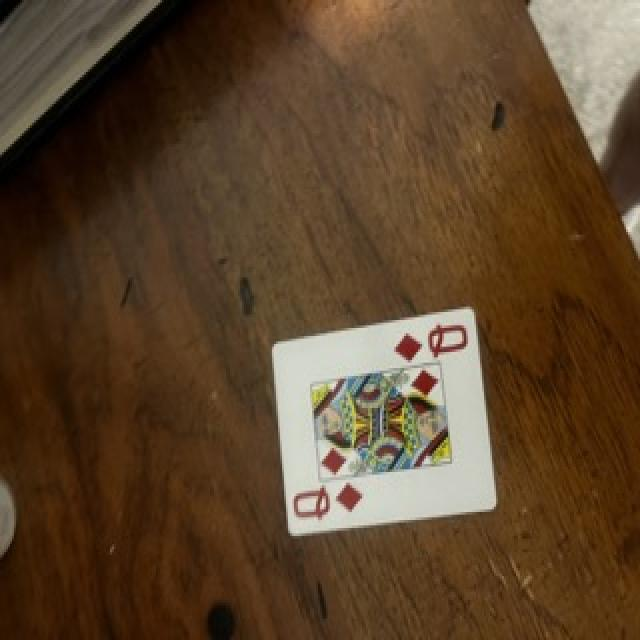Queen of diamonds: (274, 308, 496, 535)
